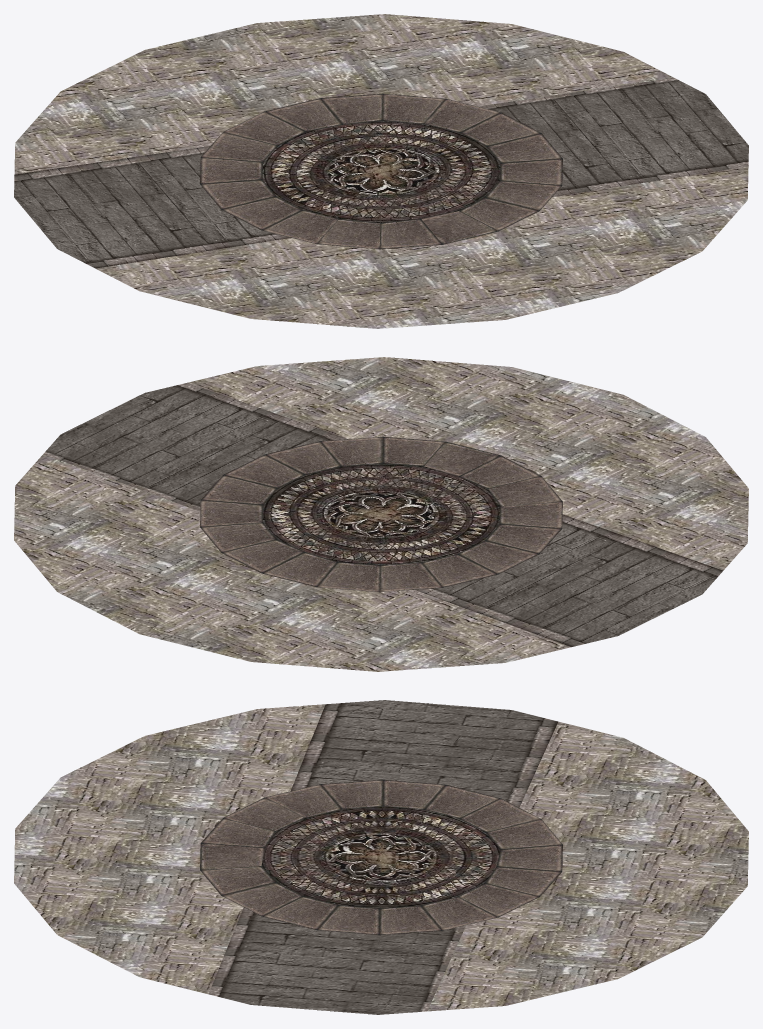
File: floor21.obj
The picture shows the model from 3 angles, top to bottom: view 1: azimuth 30°, elevation 25°; view 2: azimuth 150°, elevation 25°; view 3: azimuth 270°, elevation 25°; orthographic projection.
Visible parts, largest first — view 1: floor21; view 2: floor21; view 3: floor21.
Boxes of the visible parts, box(x1,y1,x2,y2) form: floor21: box(14, 14, 748, 328); floor21: box(14, 357, 748, 671); floor21: box(14, 700, 748, 1014).
Bounding box in the file's own units: 419 × 0 × 414.
